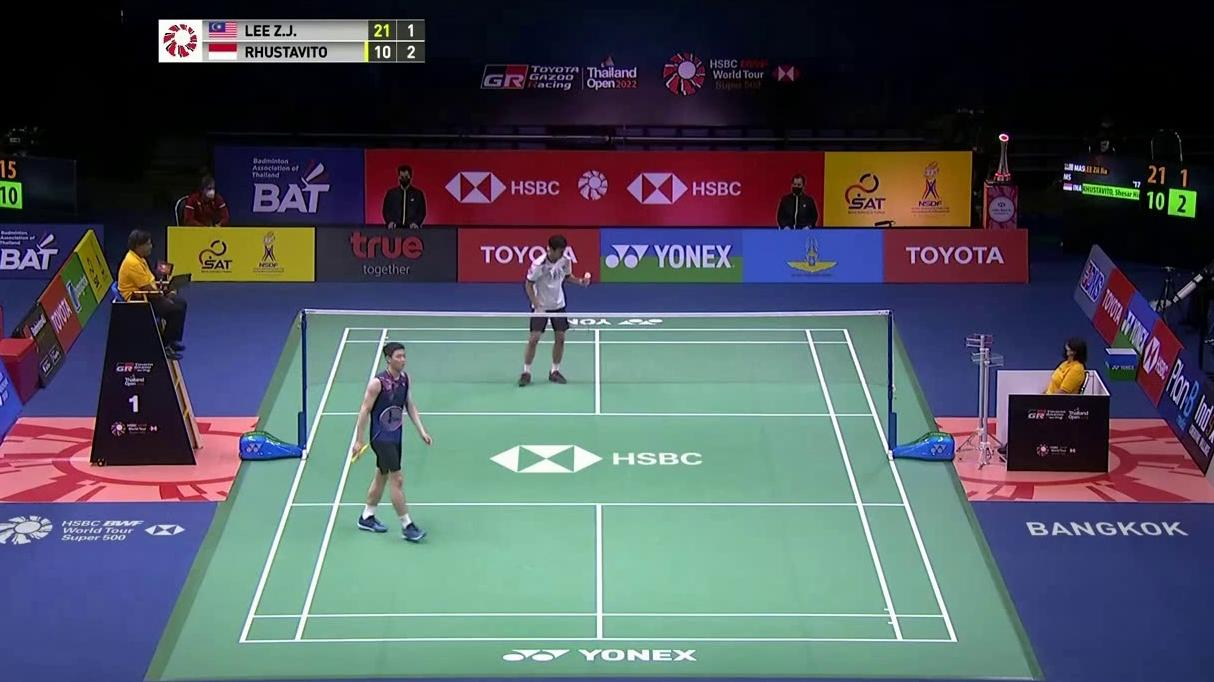racket: (351, 405, 404, 462), (538, 310, 590, 334)
shuttle: (584, 272, 591, 278)
